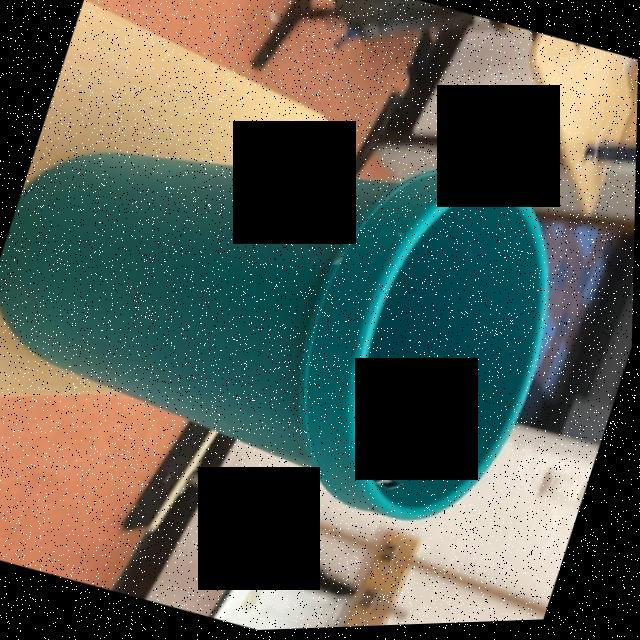bin: (0, 26, 639, 624)
